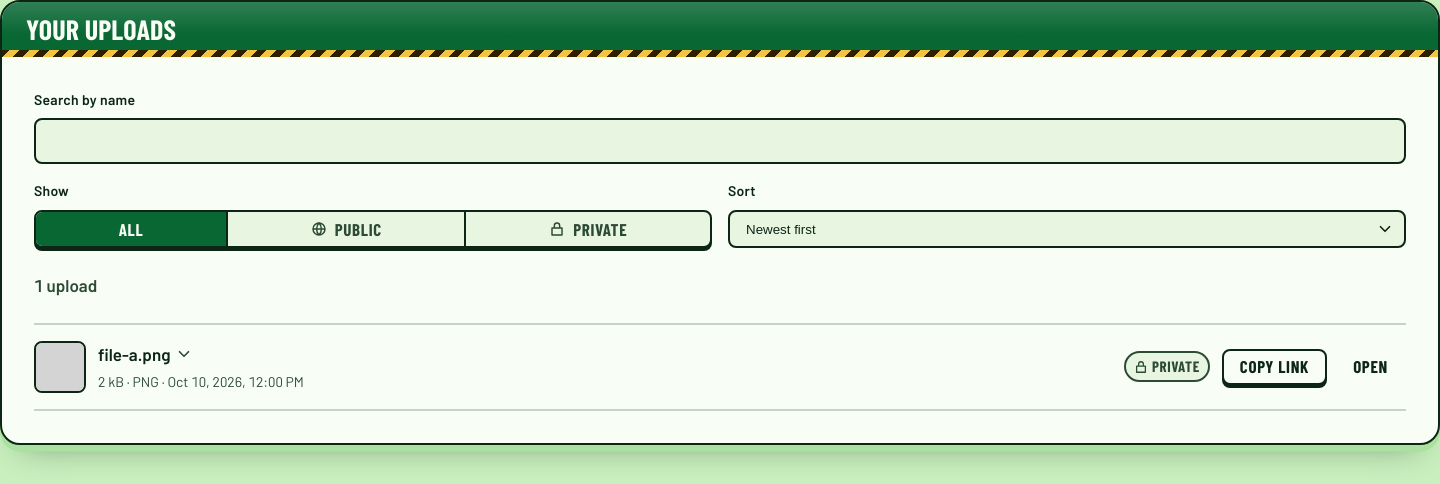
UploadList › searches, filters and sorts, and offers a way back when nothing matches
The width and height of the screenshot is (1440, 484).
Select "Largest first" in the dropdown labelled "Sort": [1067, 229] box [728,210,1406,248]
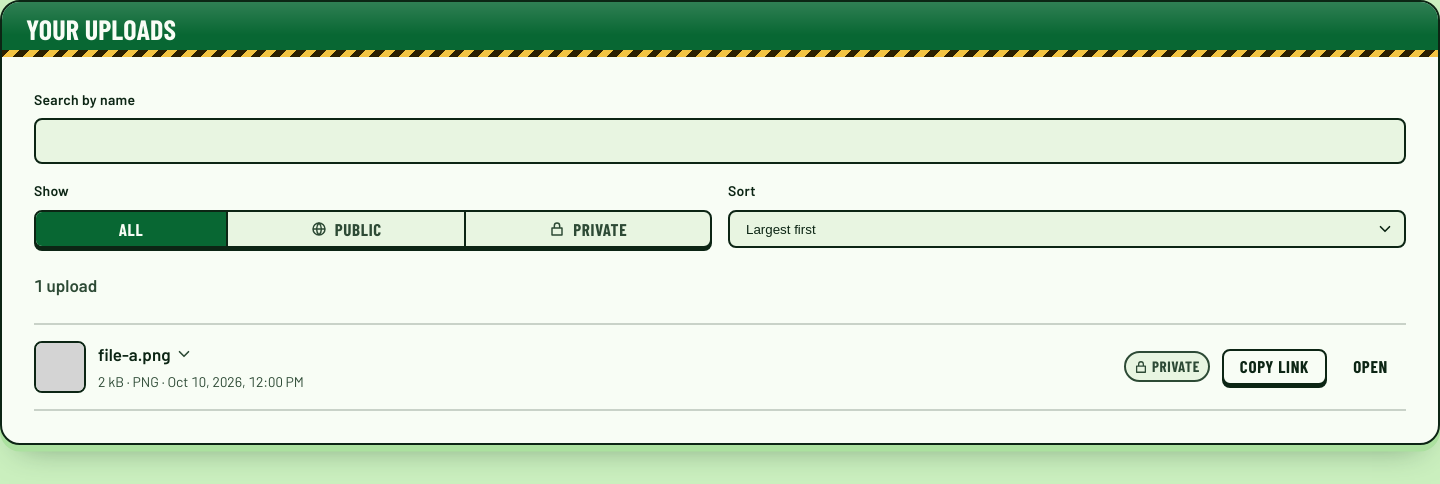
Click the radio button labelled "Private": [587, 229] box [464,212,710,246]
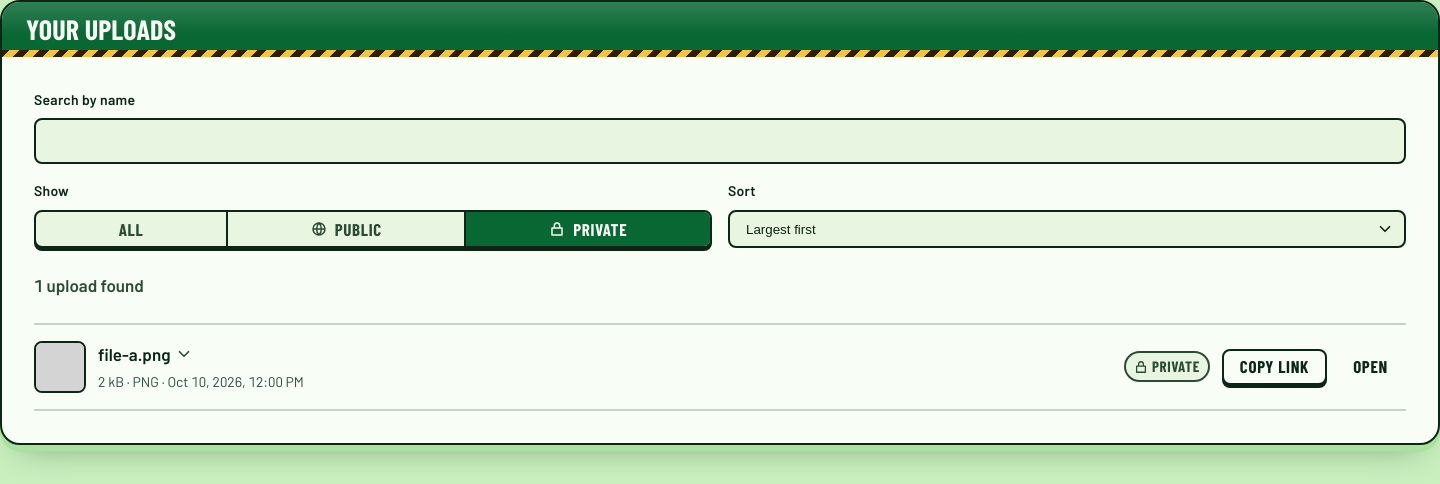
Result: the text with class "count" reads "1 upload found" at [34,275,144,295]
In the search field labelled "Search by name": [720, 142] box [34,118,1406,164], type "nothing"
Wait 300 ms
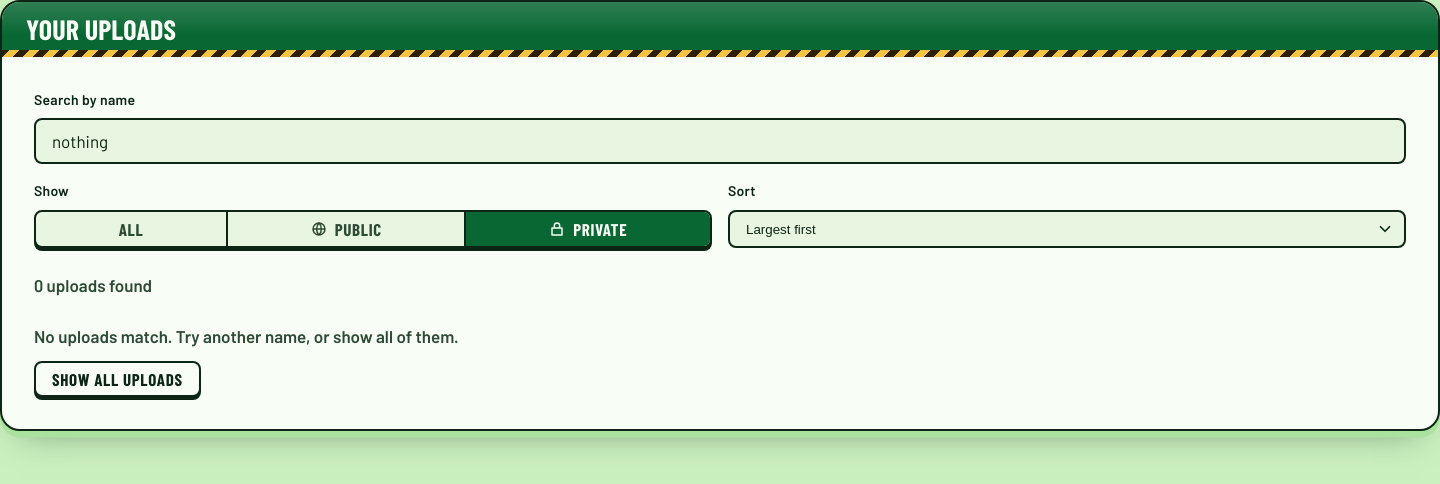
Result: the element with class "empty" shows "No uploads match." at [34,326,459,346]
Click the button "Show all uploads": [117, 379] box [34,361,201,397]
Wait 300 ms
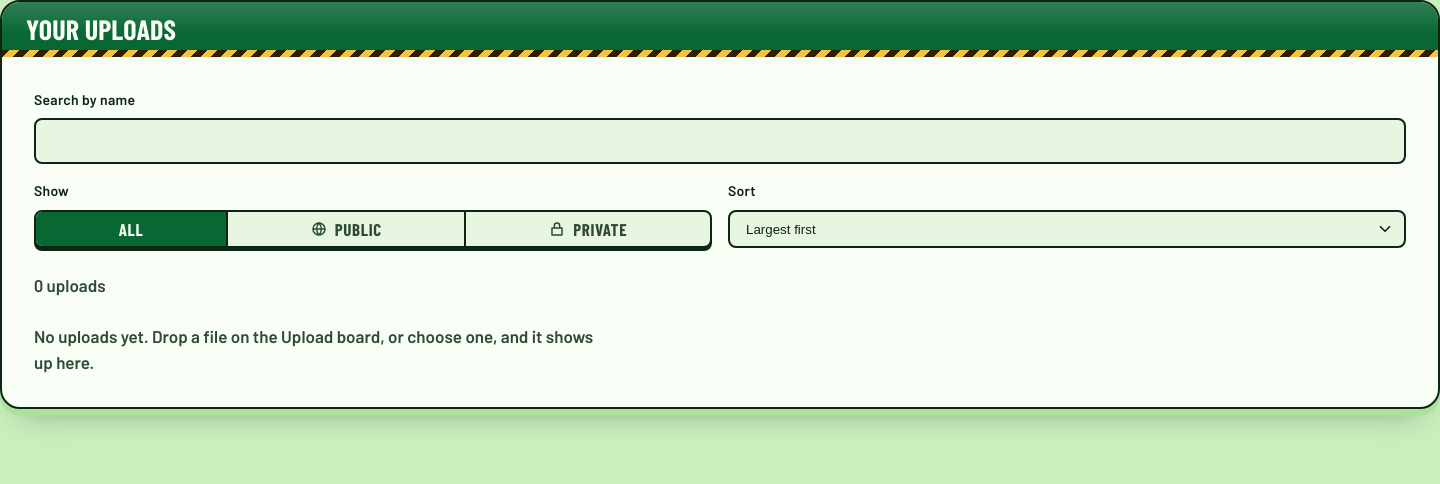
Result: the search field labelled "Search by name" is empty at [34,118,1406,164]
Result: the radio button labelled "All" is checked at [36,212,226,246]
